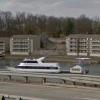Boat: (14, 54, 60, 74)
